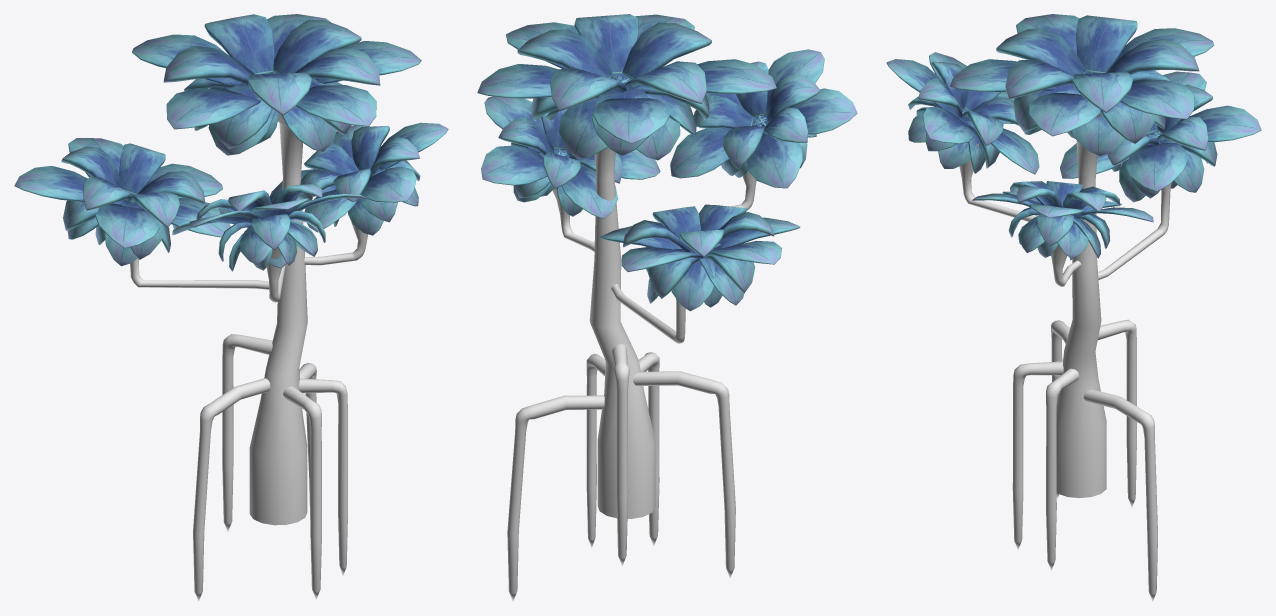
File: MOD_TreeBig.FBX
3 renders of one model, left to right at view 1: azimuth 30°, elevation 25°; view 2: azimuth 150°, elevation 25°; view 3: azimuth 270°, elevation 25°, orthographic. The views are drawn at different scales.
Visible parts, largest first — view 1: Cylinder020, Object046, Object047, Object048, Plane046; view 2: Cylinder020, Object046, Plane046, Object047, Object048; view 3: Cylinder020, Object046, Plane046, Object047, Object048.
Boxes of the visible parts, bbox=[...] form: Cylinder020: bbox=[130, 113, 367, 601]; Object046: bbox=[132, 14, 421, 155]; Object047: bbox=[14, 138, 230, 266]; Object048: bbox=[269, 122, 448, 235]; Plane046: bbox=[172, 183, 366, 271]; Cylinder020: bbox=[507, 147, 756, 601]; Object046: bbox=[477, 14, 776, 160]; Plane046: bbox=[670, 49, 857, 188]; Object047: bbox=[600, 204, 800, 311]; Object048: bbox=[481, 96, 660, 219]; Cylinder020: bbox=[959, 112, 1171, 601]; Object046: bbox=[949, 14, 1214, 156]; Plane046: bbox=[886, 52, 1039, 174]; Object047: bbox=[1060, 71, 1261, 202]; Object048: bbox=[972, 181, 1153, 260].
Size of the model in its own units: 250 by 360 by 237.
Materials: 1 (1 with a texture image).
